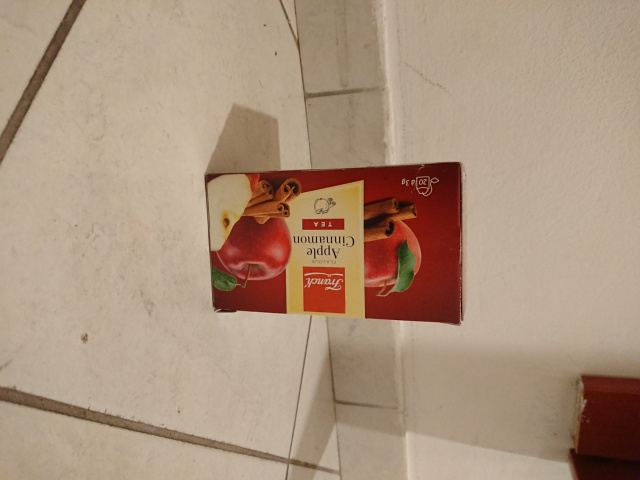Franck Apple Cinnamon Tea 60g: (200, 157, 472, 329)
